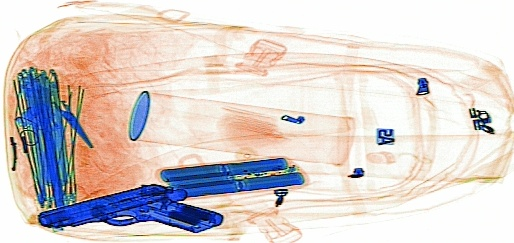powerbank: (153, 152, 312, 202)
scissors: (41, 68, 93, 149)
